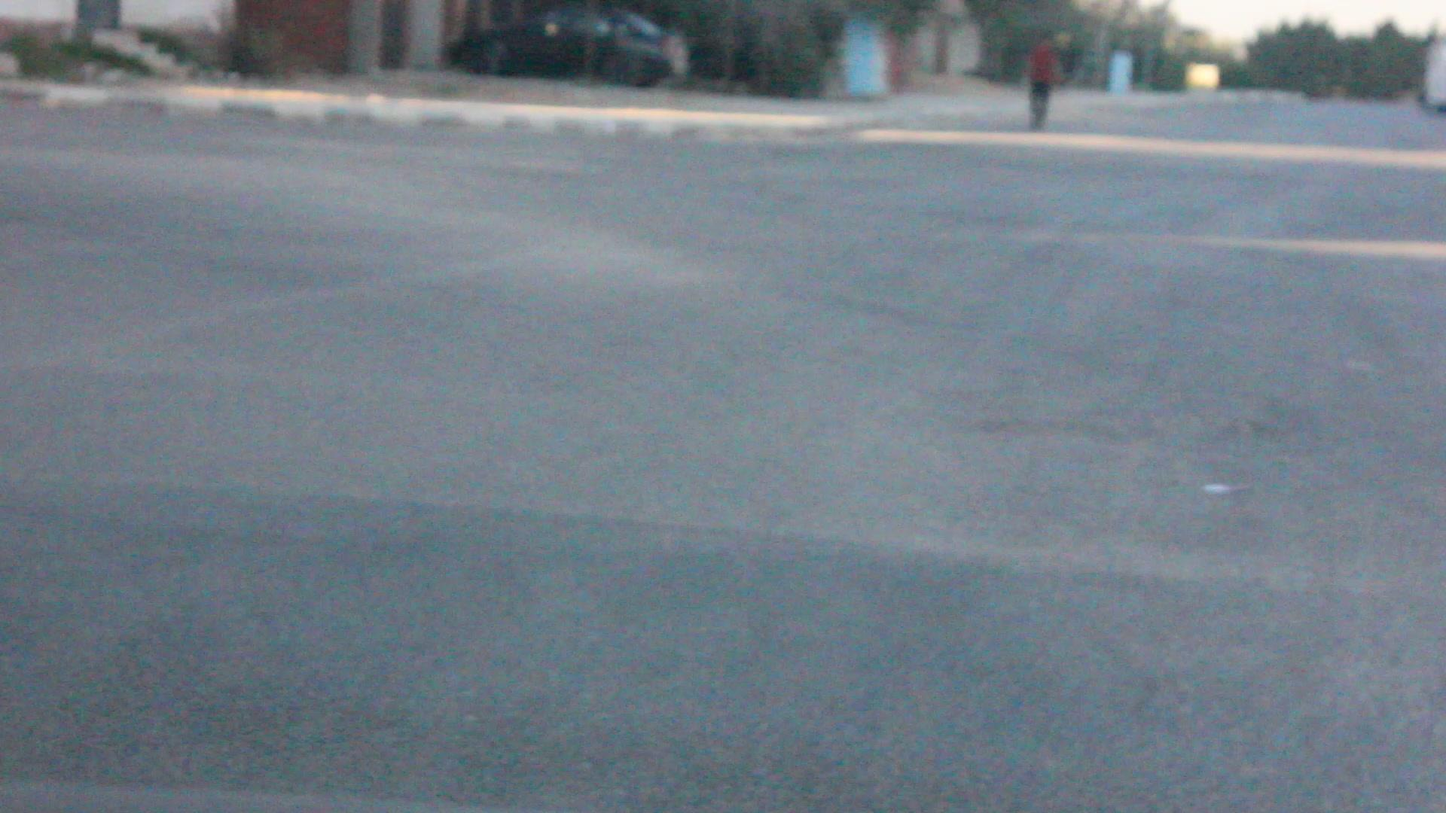Bump: (26, 486, 1446, 792)
